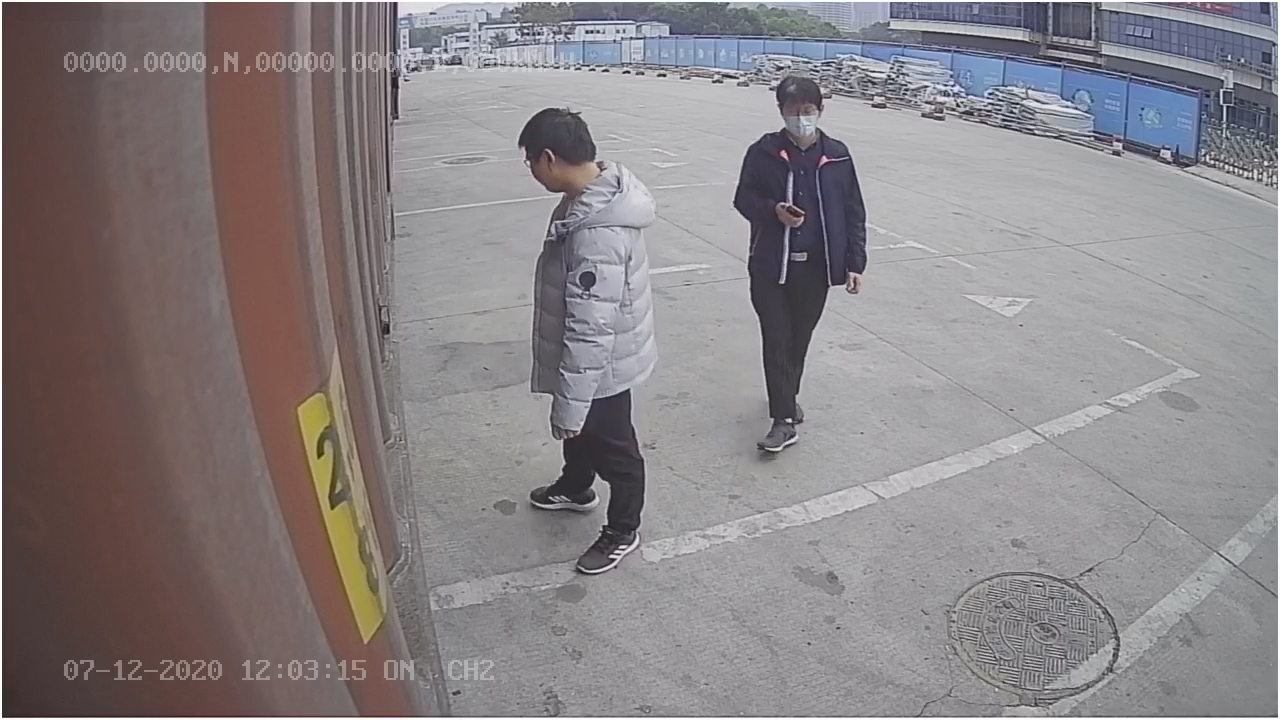person: (505, 95, 659, 573), (730, 52, 871, 456)
